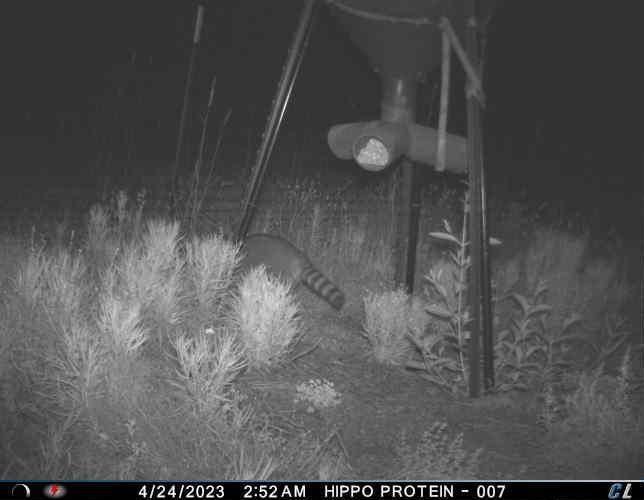Raccoon: (222, 229, 348, 320)
